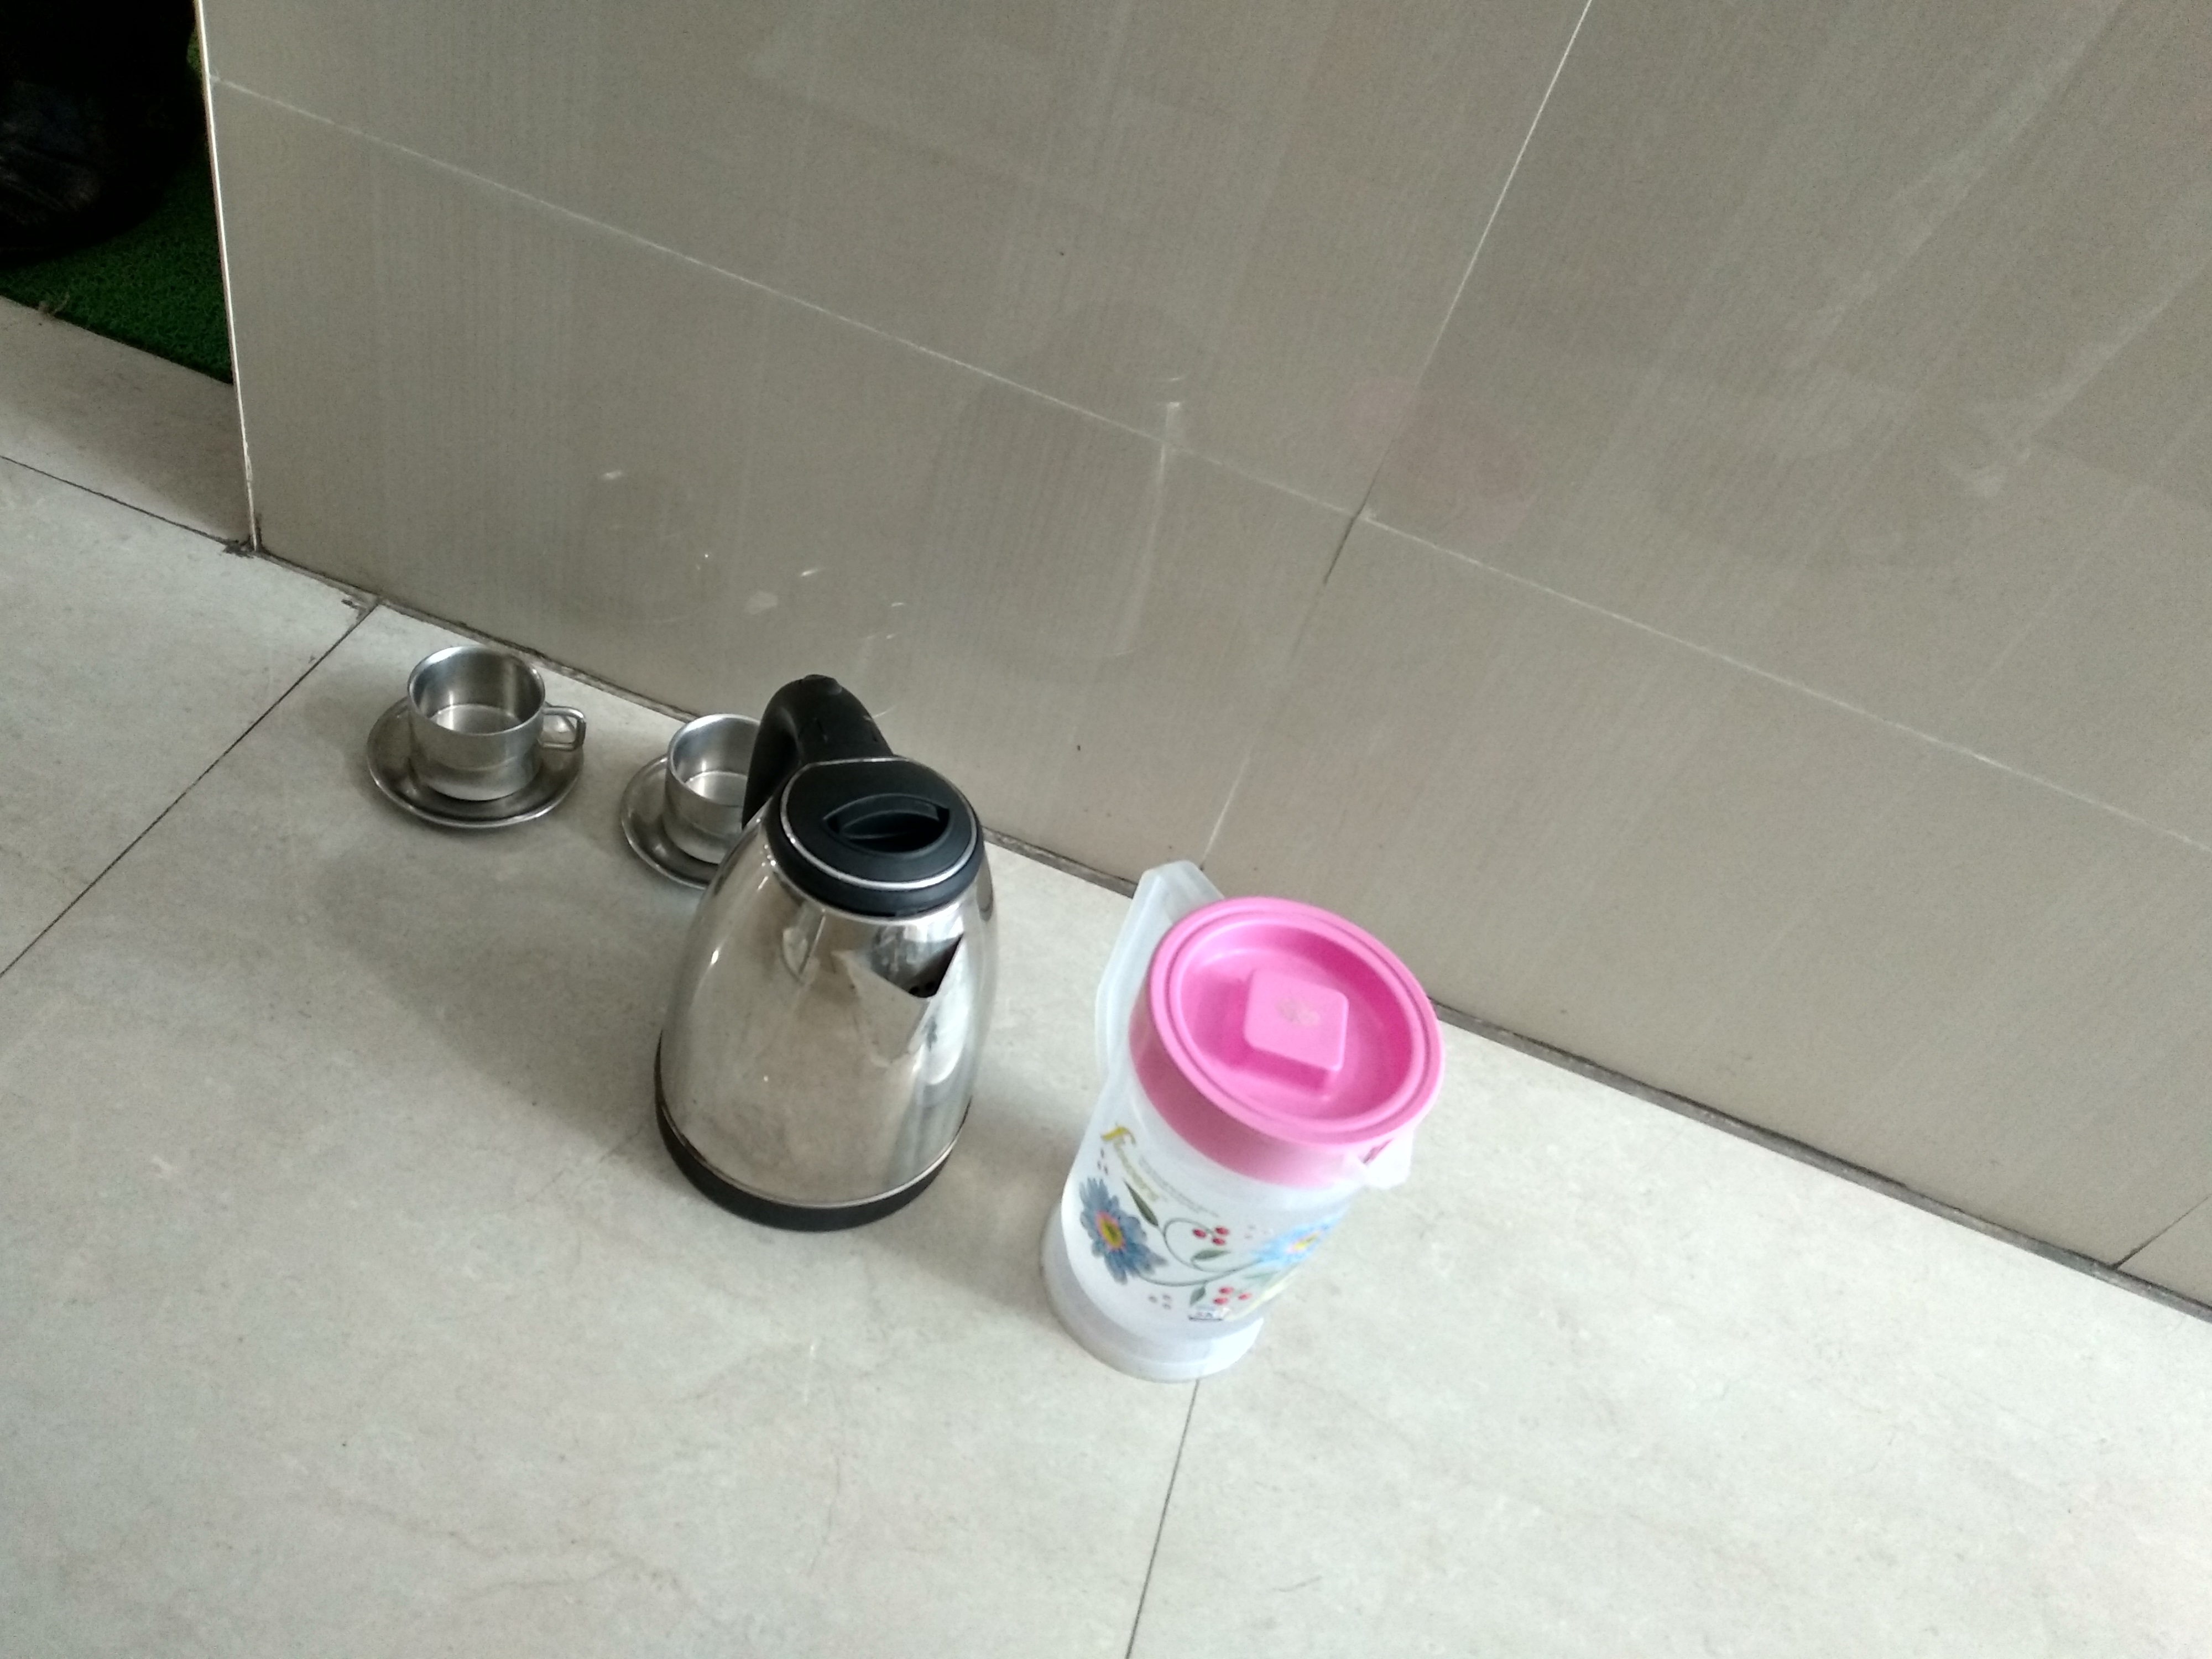CUP: (350, 648, 608, 833), (632, 697, 772, 863)
JUG: (1052, 772, 1447, 1399), (660, 662, 998, 1283)
